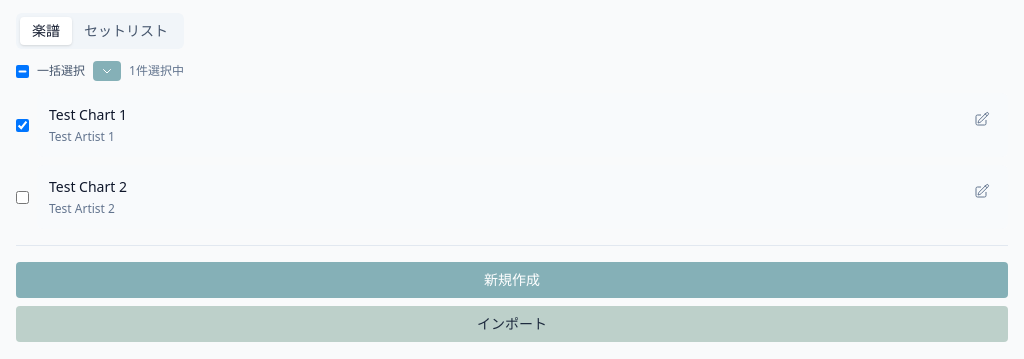
ScoreExplorer › Complex Selection Behaviors › should handle ActionDropdown integration correctly
This screenshot has width=1024, height=359.
# アクションボタンをクリックしてドロップダウンを開く
What coordinates should you click on to do the following:
click the button named "アクション"
I would click on:
 (107, 71)
Its box is 93,61 -> 121,81.
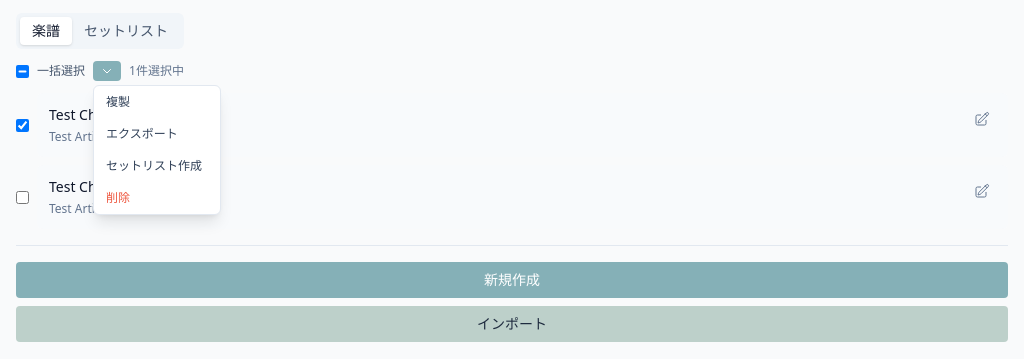
Check: the button "エクスポート" is shown, box 94,118 -> 220,150
Check: the button "削除" is shown, box 94,182 -> 220,214
